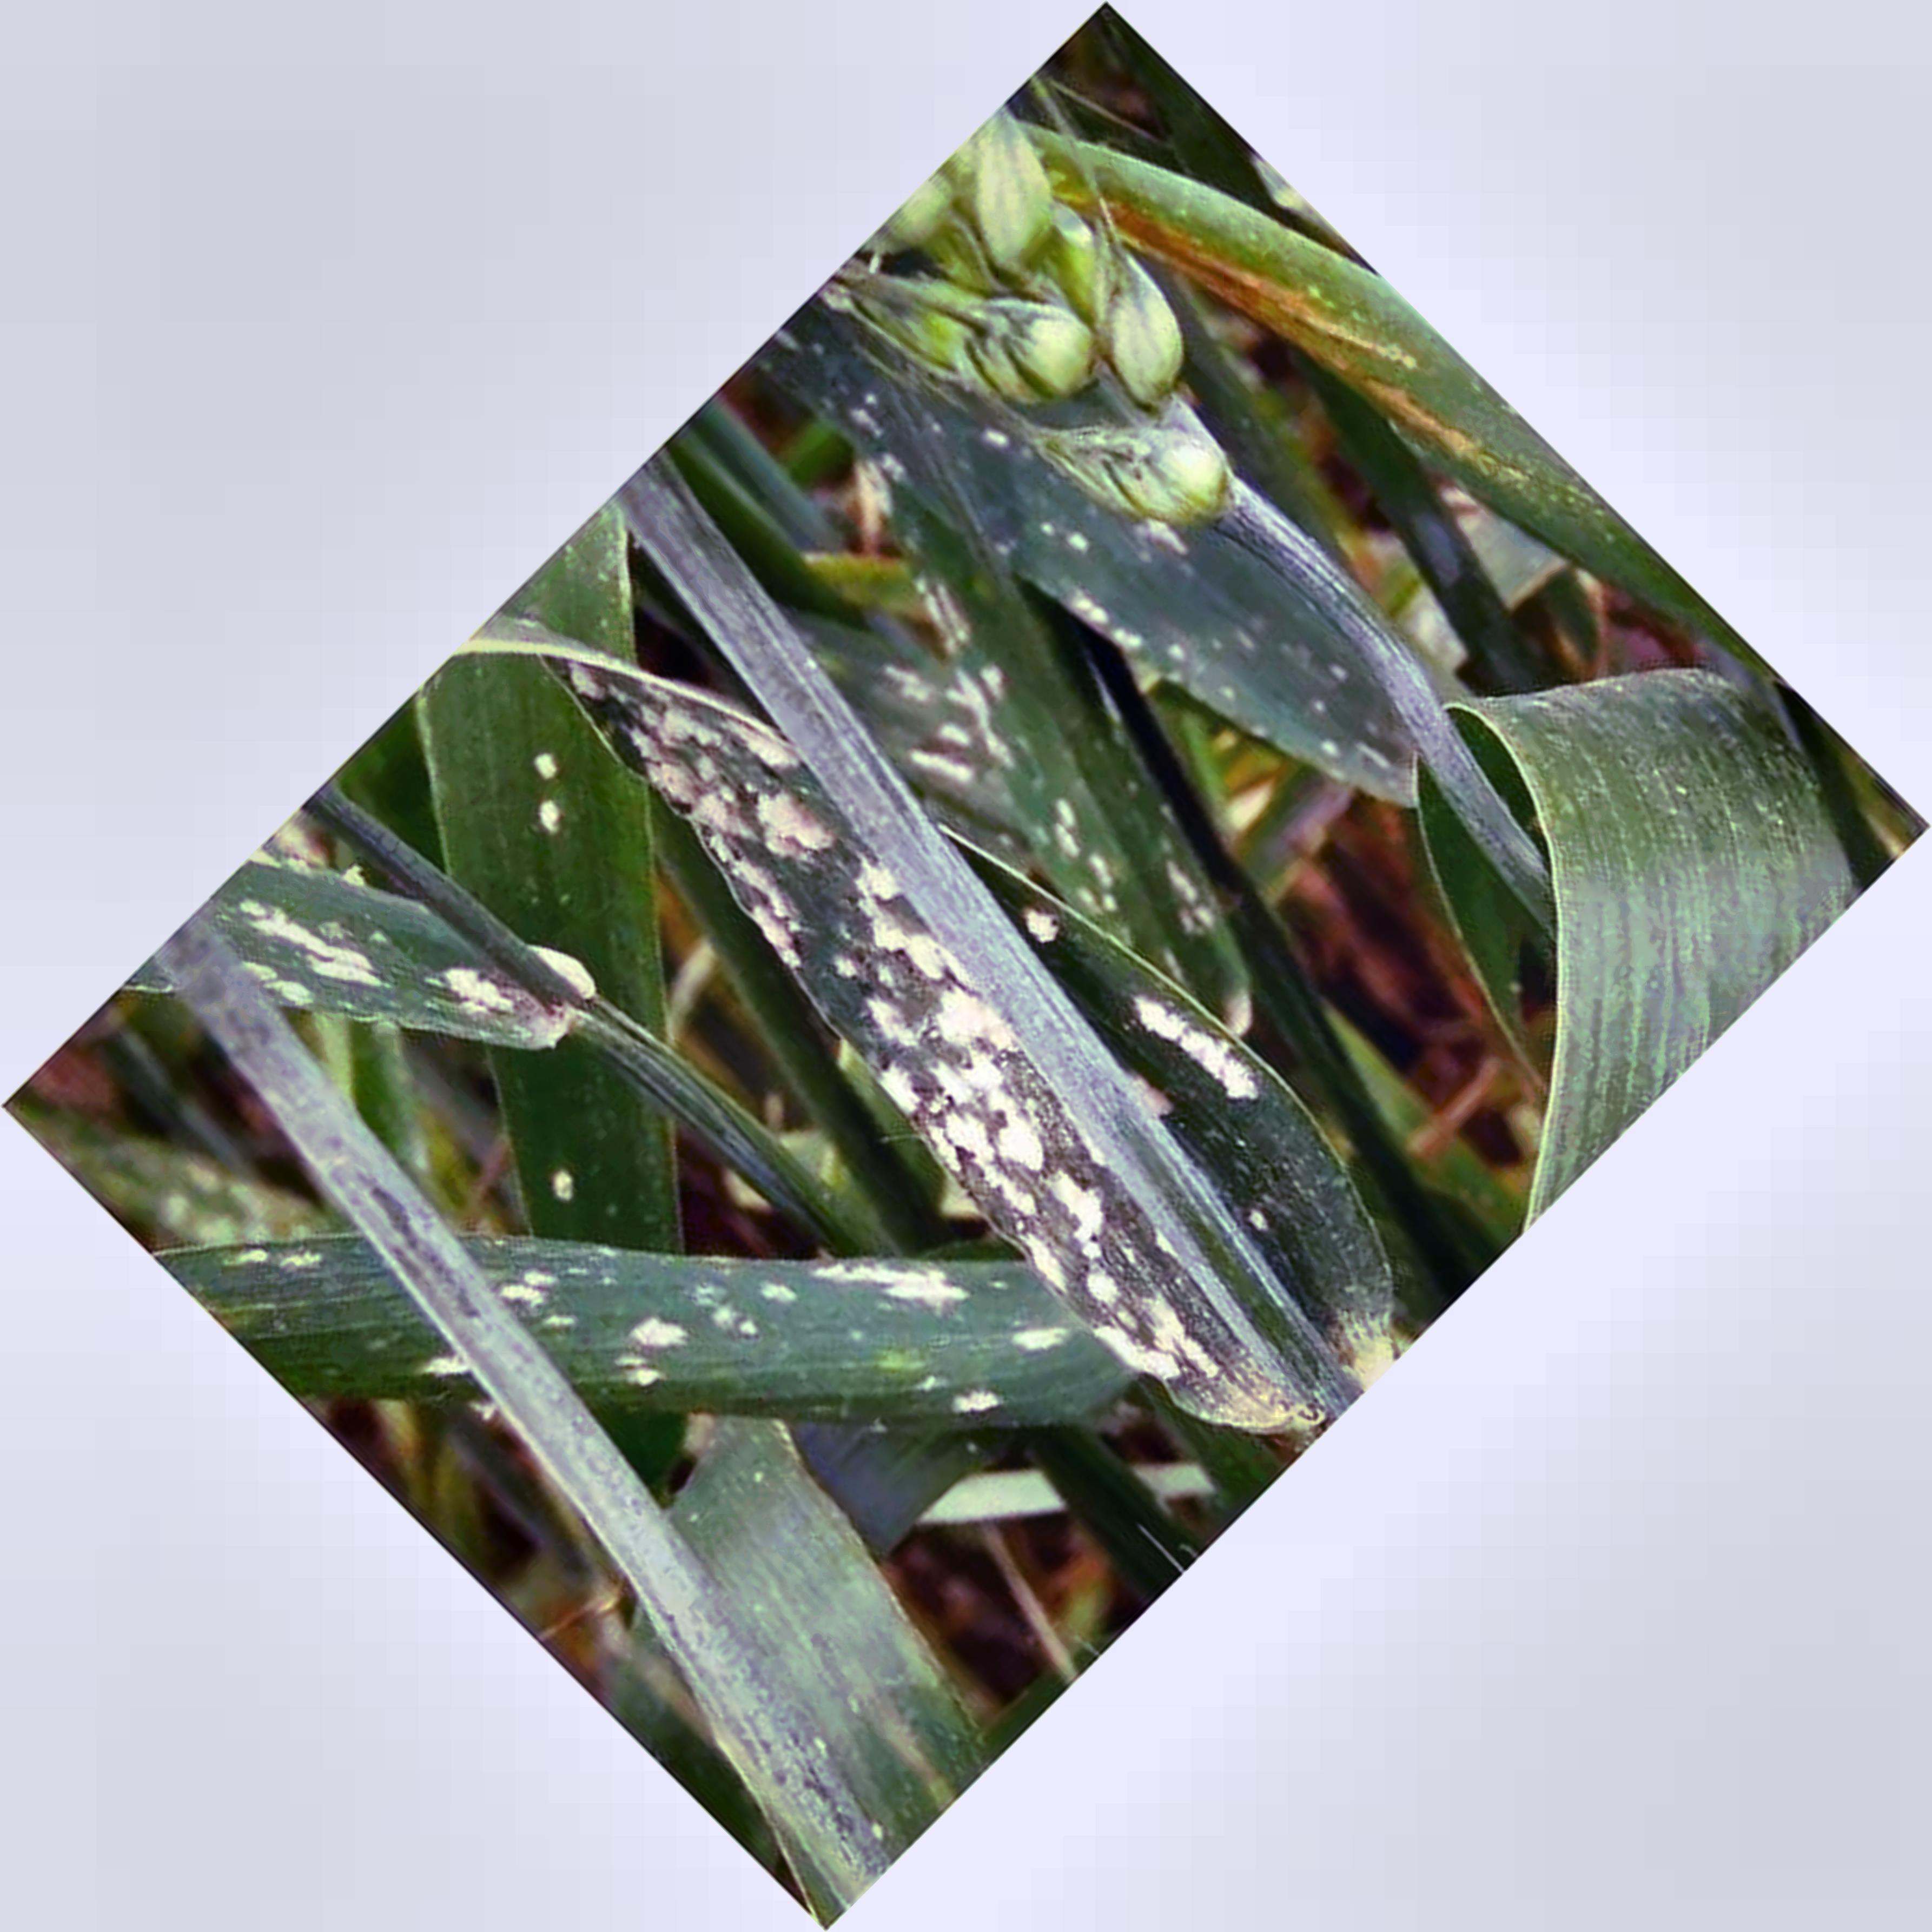Powdery Mildew: (621, 676, 1258, 1376)
